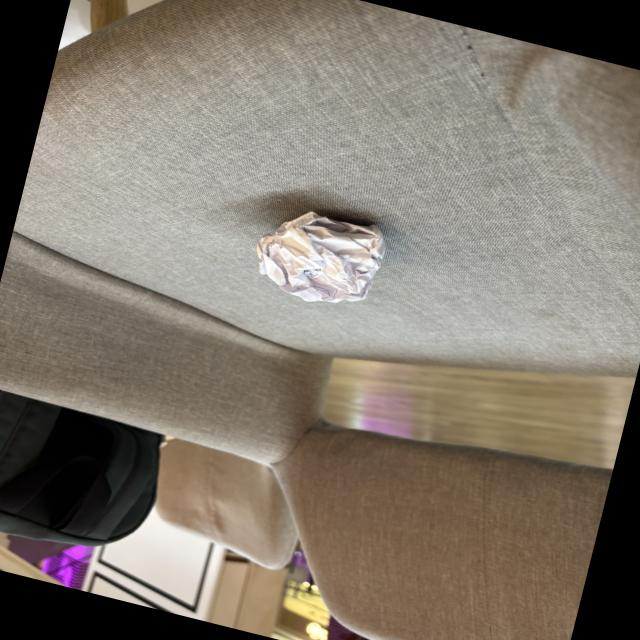crumpled_paper: (235, 184, 410, 326)
